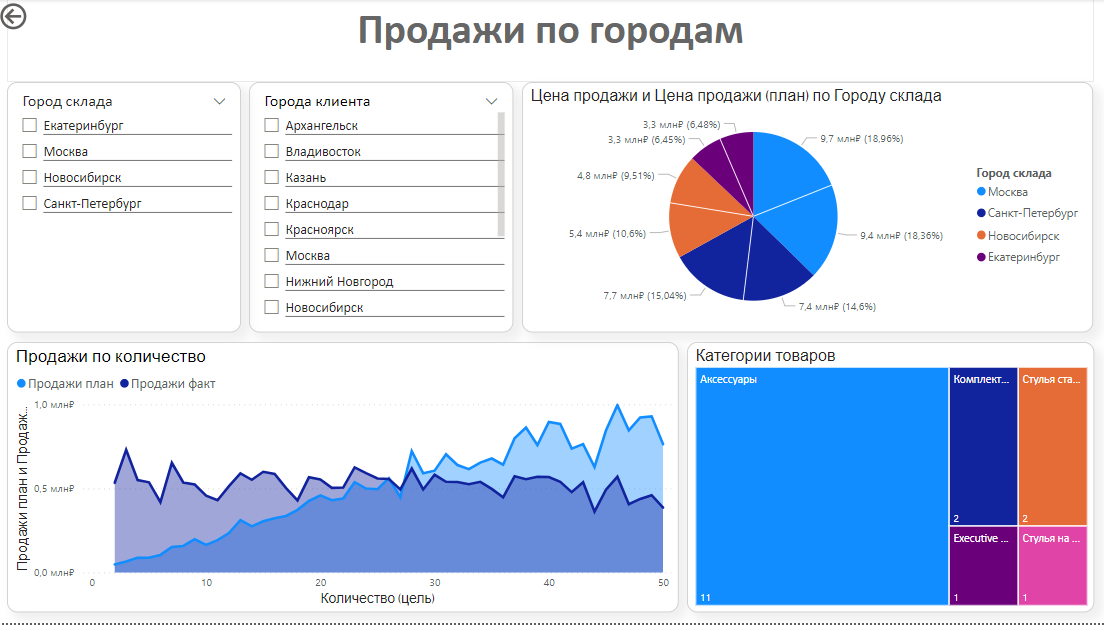

This screenshot's page, from the dashboard's own definition file:
{"tool":"powerbi","page":{"name":"Страница 2","canvas":[1280,720],"ordinal":1},"visuals":[{"type":"slicer","fields":{"Values":["Клиенты.Город клиента"]},"box":[292.4,95.4,304.8,288.7],"z":0},{"type":"slicer","fields":{"Values":["Склады.Город склада"]},"box":[12.4,95.4,270.1,288.7],"z":1000},{"type":"areaChart","title":"Продажи по количество","fields":{"Y":["Продажи.Продажи план","Продажи.Продажи факт"],"Category":["Продажи.Количество (цель)"]},"box":[12.7,395.8,775.4,311.5],"z":2000},{"type":"textbox","box":[12.2,0,1254.3,95.4],"z":3000},{"type":"pieChart","fields":{"Category":["Склады.Город склада"],"Y":["Sum(Продажи.Цена продажи)","Sum(Продажи.Цена продажи (план))"]},"box":[607.2,95.4,659.2,288.7],"z":4000},{"type":"treemap","title":"Категории товаров","fields":{"Group":["Товары.Категория товара"],"Values":["CountNonNull(Товары.Наименование товара)"]},"box":[797.3,395.8,469.6,311.5],"z":5000},{"type":"actionButton","box":[0,0,100,40],"z":6000}]}

Visuals, with their boxes in screenshot pixels (x1, y1, x2, y2), scaled from the page's 1280x720 canvas onto the 1104x625 screenshot:
slicer - Клиенты.Город клиента: l=252, t=83, r=515, b=333
slicer - Склады.Город склада: l=11, t=83, r=244, b=333
"Продажи по количество" areaChart: l=11, t=344, r=680, b=614
textbox: l=11, t=0, r=1092, b=83
pieChart - Склады.Город склада x Sum(Продажи.Цена продажи): l=524, t=83, r=1092, b=333
"Категории товаров" treemap: l=688, t=344, r=1093, b=614
actionButton: l=0, t=0, r=86, b=35
